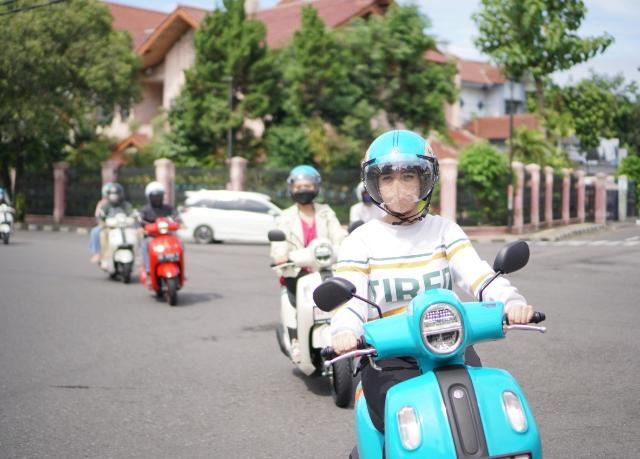helm: (361, 130, 441, 223), (287, 165, 324, 207), (145, 183, 170, 210), (102, 183, 125, 207), (2, 187, 7, 204)
motor: (310, 237, 552, 459), (267, 228, 365, 411), (139, 218, 191, 309), (100, 213, 142, 285), (2, 205, 19, 246)
